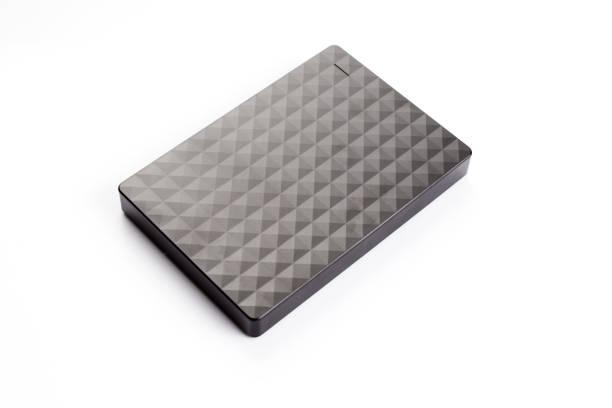HDD: (117, 45, 473, 338)
